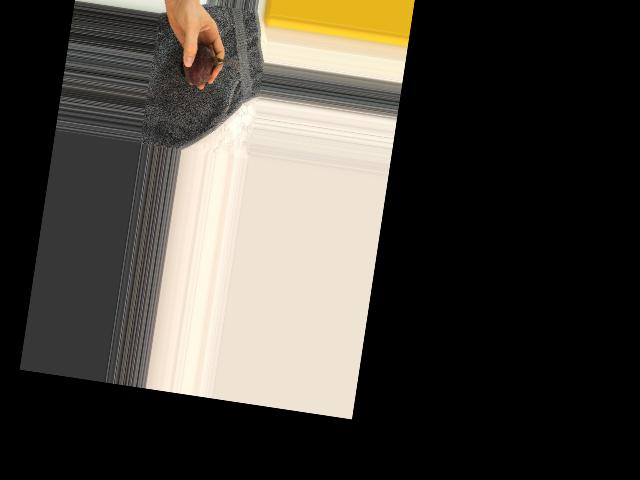beet: (176, 42, 243, 91)
